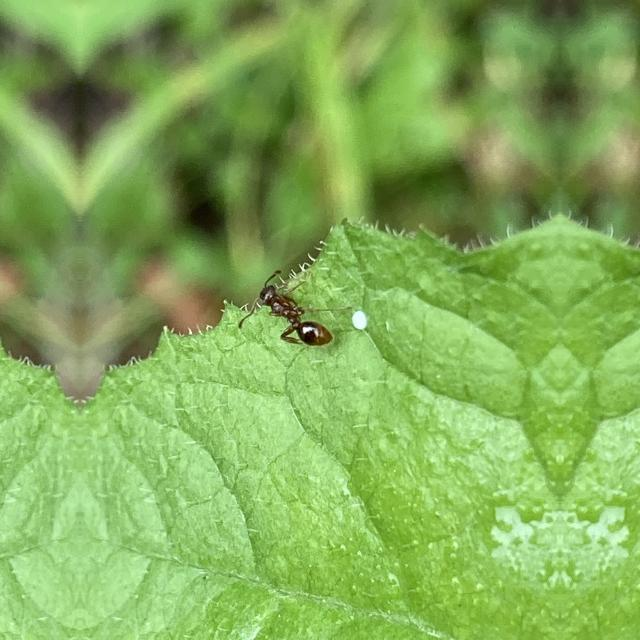Myrmica: (238, 267, 360, 377)
